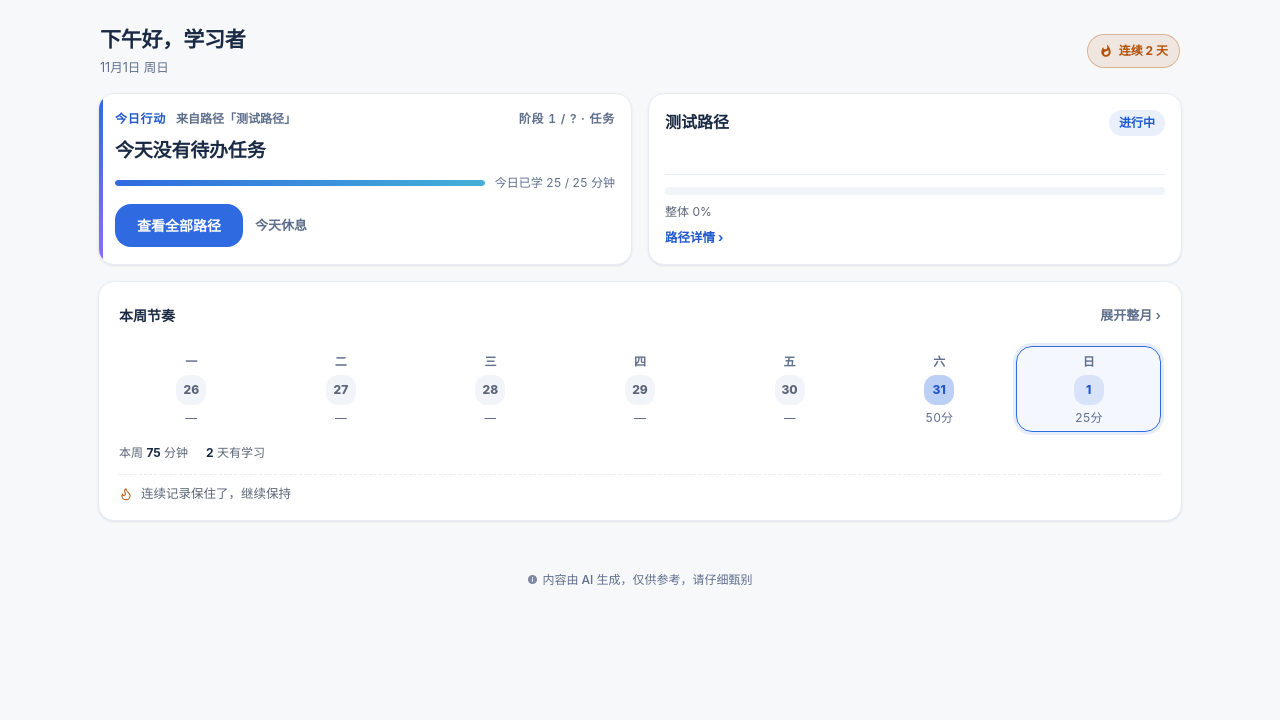
跨月边界：本月摘要只含当前自然月 › 月初 1 号：上月月末的学习不计入本月
Click the button "展开整月 ›" at (1131, 316), box left=1100, top=298, right=1161, bottom=334
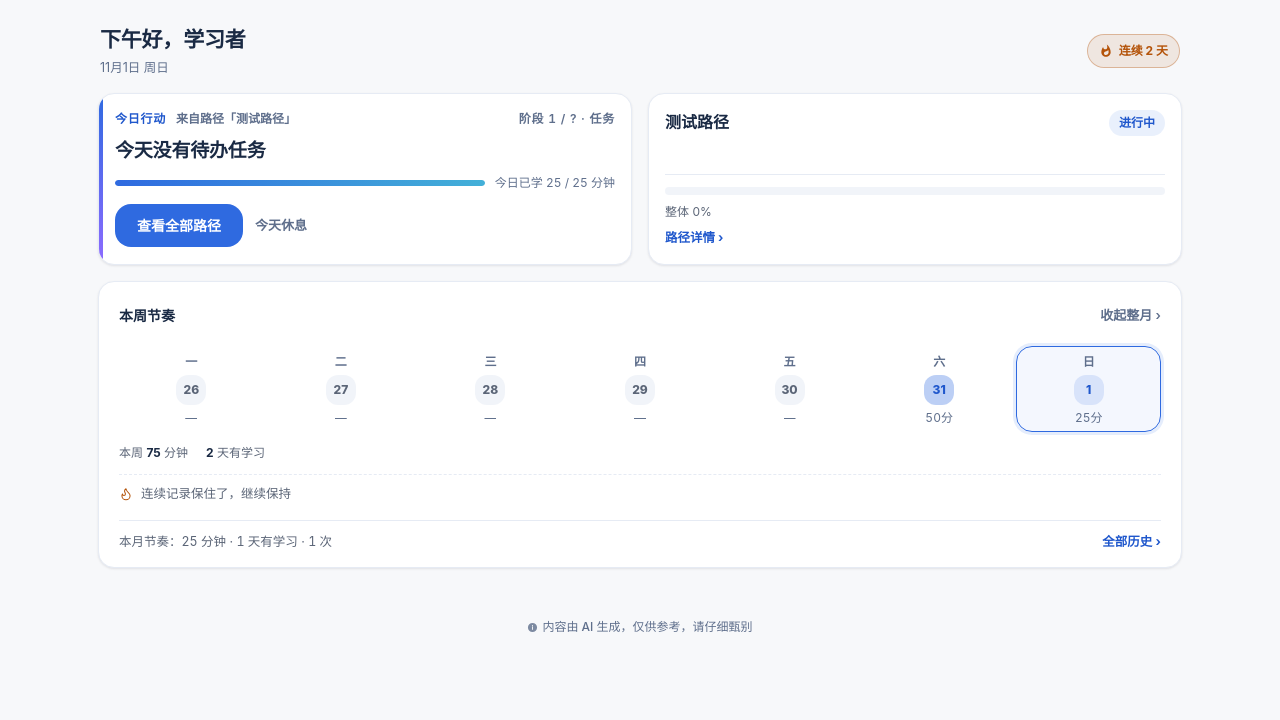
Expected: the element with class "month-summary" shows "本月节奏：25 分钟", left=119, top=534, right=332, bottom=549
Expected: the element with class "month-summary" shows "1 天有学习", left=119, top=534, right=332, bottom=549
Expected: the element with class "month-summary" shows "1 次", left=119, top=534, right=332, bottom=549
